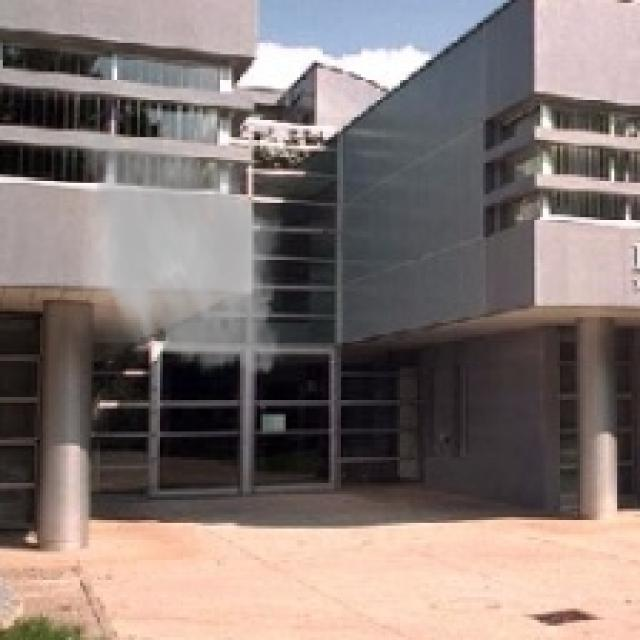smoke: (69, 120, 300, 386)
